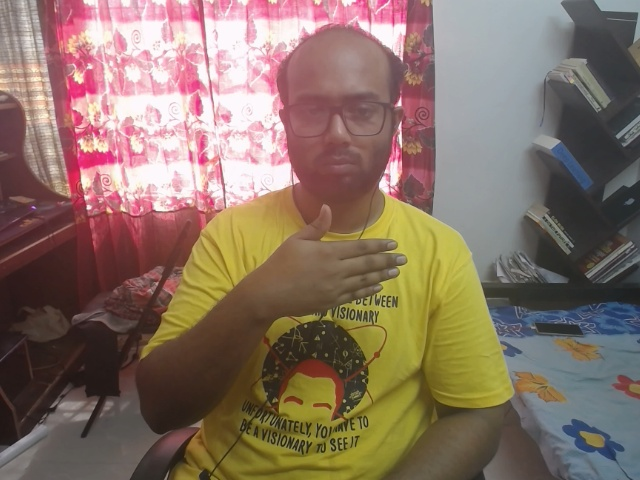north: (255, 194, 436, 368)
